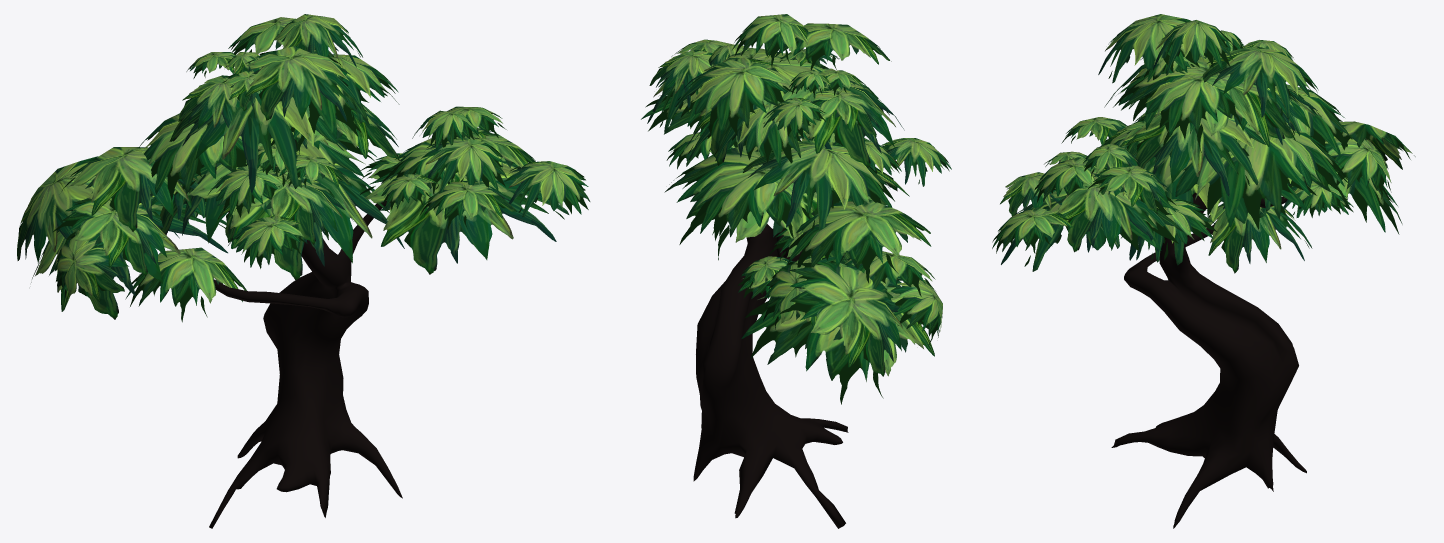
The model's file is SM_Bonsai.fbx.
3 renders of one model, left to right at view 1: azimuth 30°, elevation 25°; view 2: azimuth 150°, elevation 25°; view 3: azimuth 270°, elevation 25°, orthographic. The views are drawn at different scales.
Visible parts, largest first — view 1: SM_Bonsai; view 2: SM_Bonsai; view 3: SM_Bonsai.
Boxes of the visible parts, x1=… form: SM_Bonsai: x1=17, y1=14, x2=590, y2=528; SM_Bonsai: x1=641, y1=14, x2=951, y2=528; SM_Bonsai: x1=992, y1=14, x2=1415, y2=528.
Size of the model in its own units: 394 by 384 by 458.
